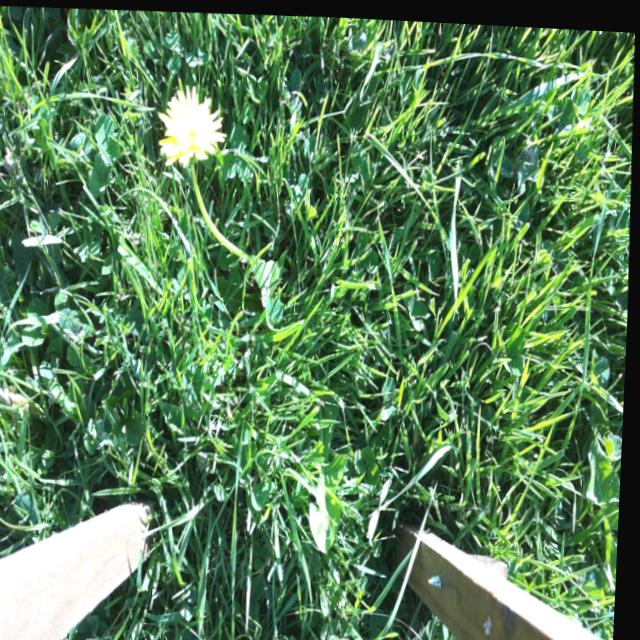base: (243, 235, 269, 279)
